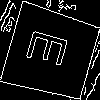E: (25, 27, 78, 72)
